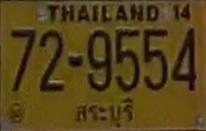2: (38, 29, 62, 91)
4: (171, 27, 196, 90)
5: (142, 28, 168, 90), (115, 28, 139, 90)
7: (9, 28, 34, 90)
9: (87, 29, 110, 90)
SRI: (71, 97, 139, 130)
